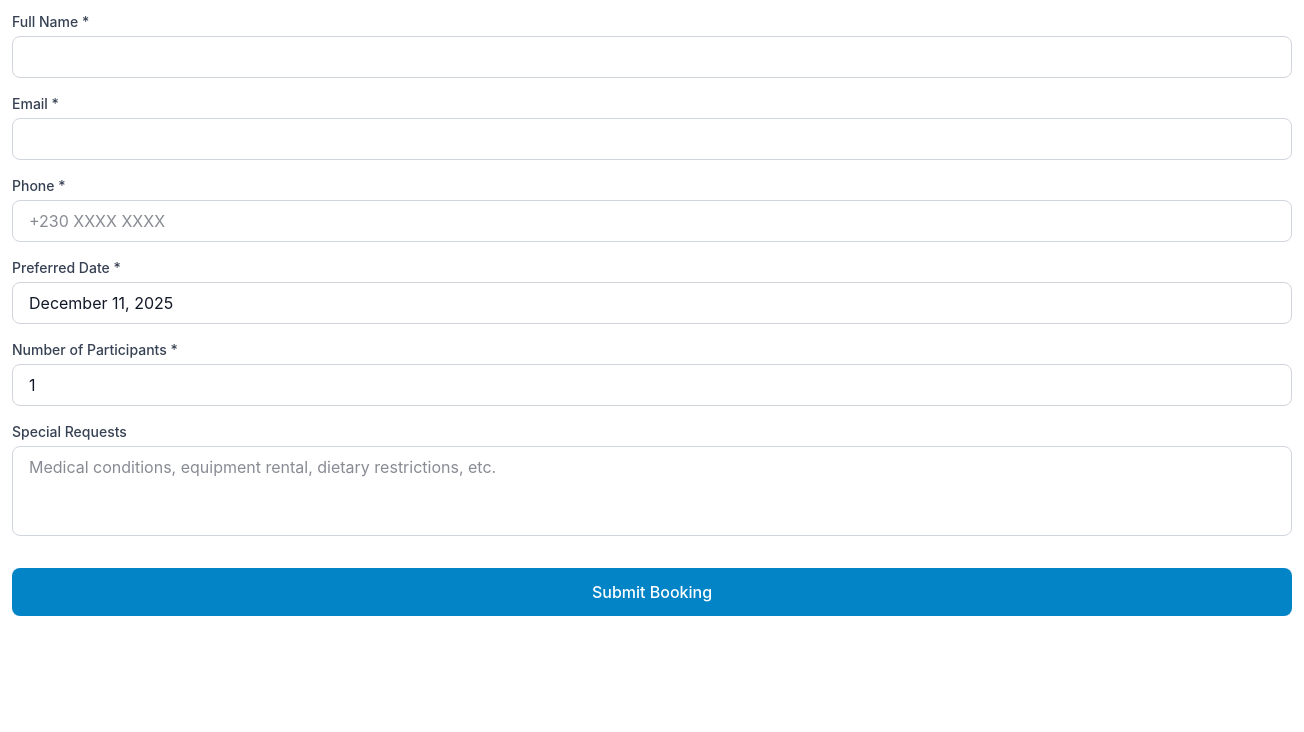
Test case: BookingForm › should validate phone number
Type "John Doe" into the field labelled "Full Name *".
click(652, 57); type("John Doe")  # box x1=12 y1=36 x2=1292 y2=78
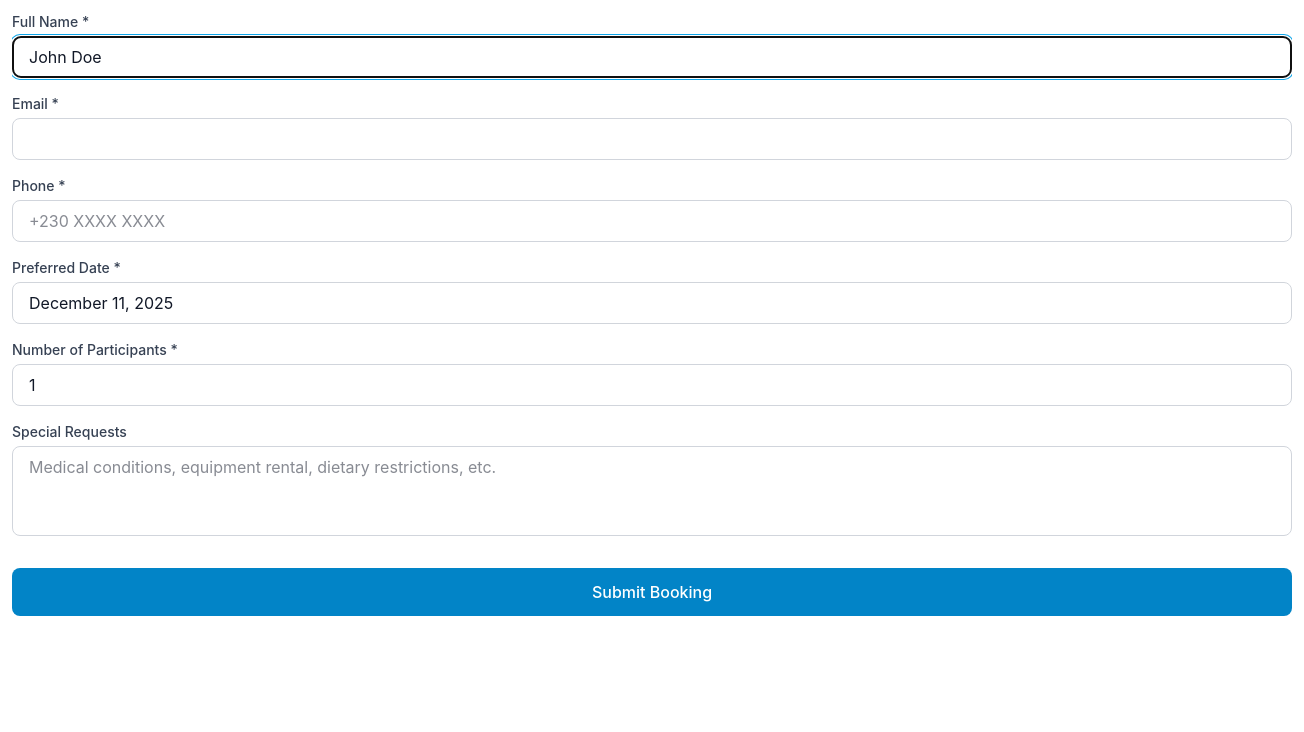
Type "test@example.com" into the field labelled "Email *".
click(652, 139); type("test@example.com")  # box x1=12 y1=118 x2=1292 y2=160
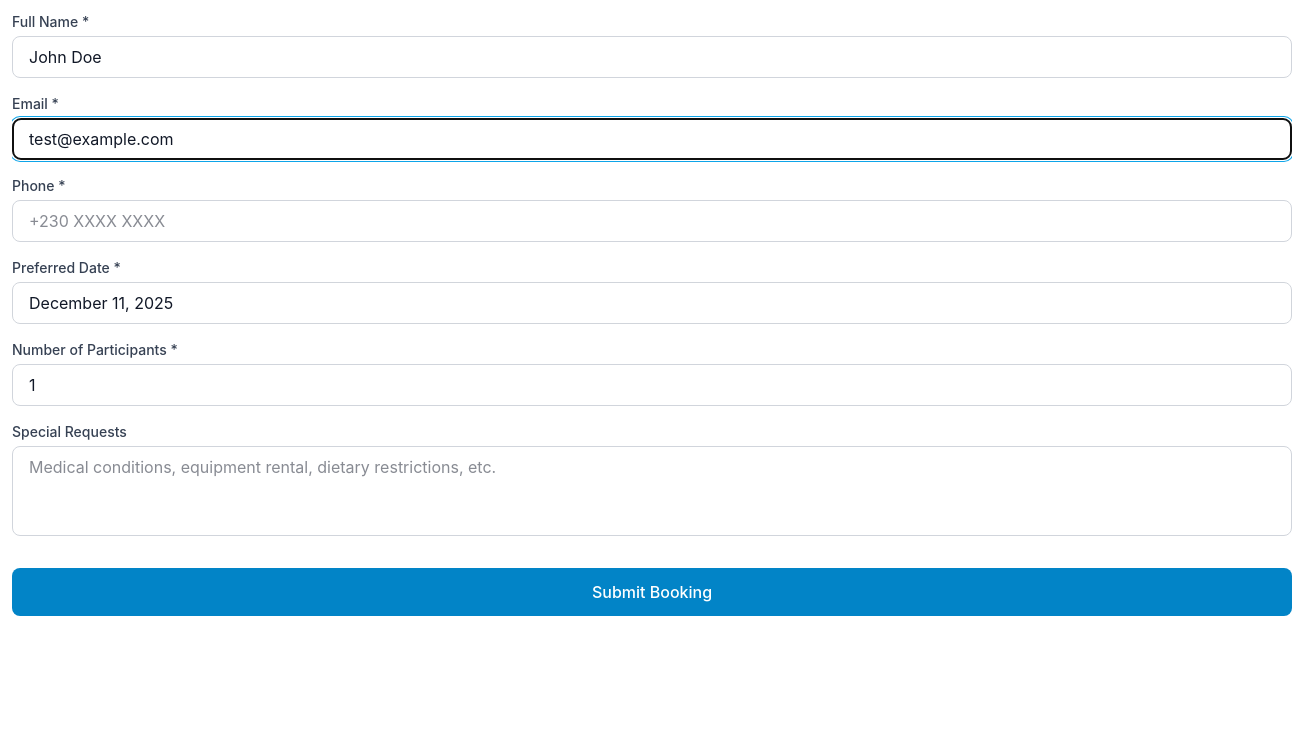
Type "123" into the field labelled "Phone *".
click(652, 221); type("123")  # box x1=12 y1=200 x2=1292 y2=242
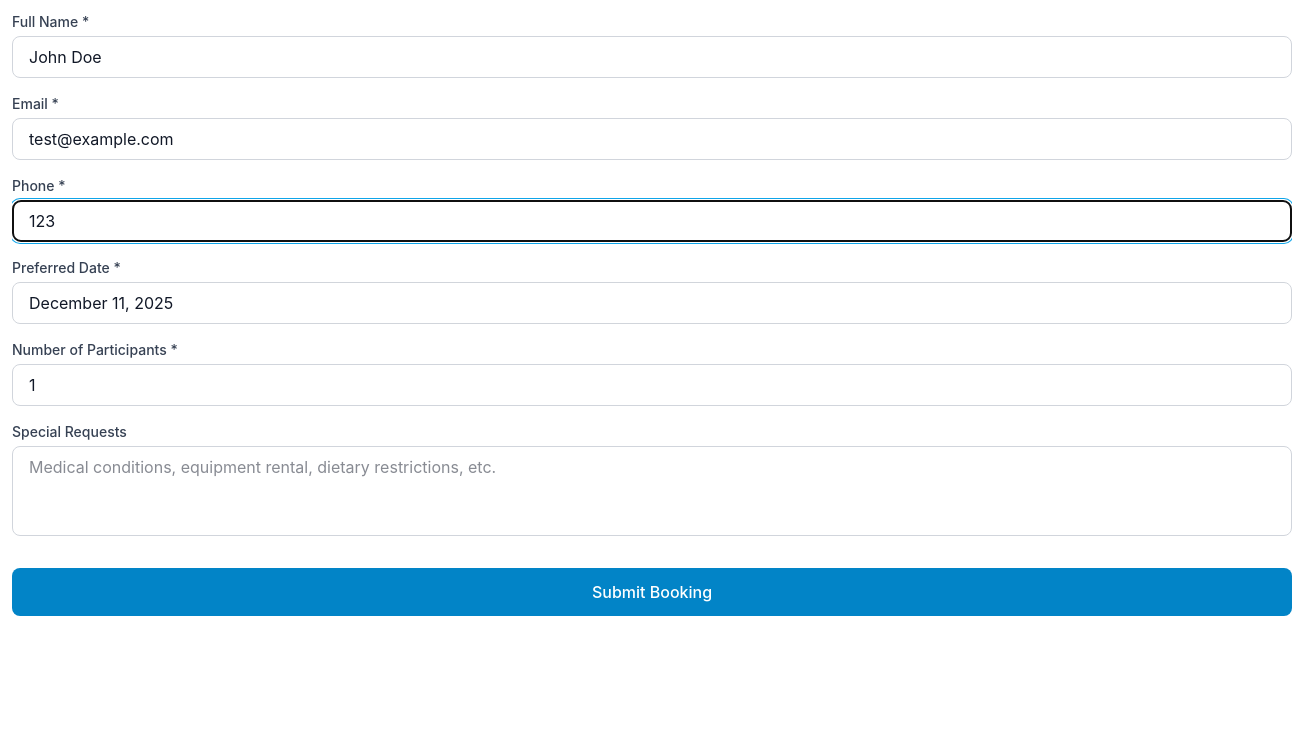
Click the button "Submit Booking".
click(652, 592)  # box x1=12 y1=568 x2=1292 y2=616
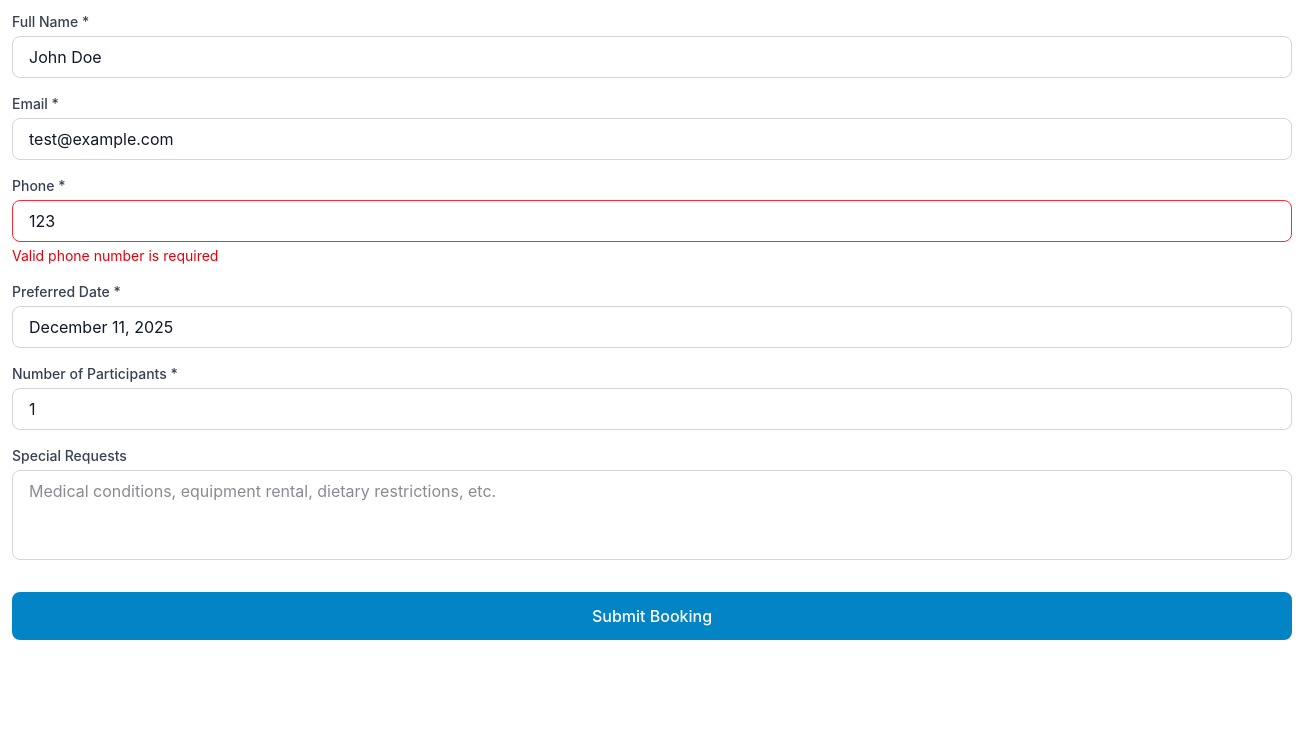
Expected: the text "Valid phone number is required" is shown, x1=12 y1=247 x2=218 y2=264
